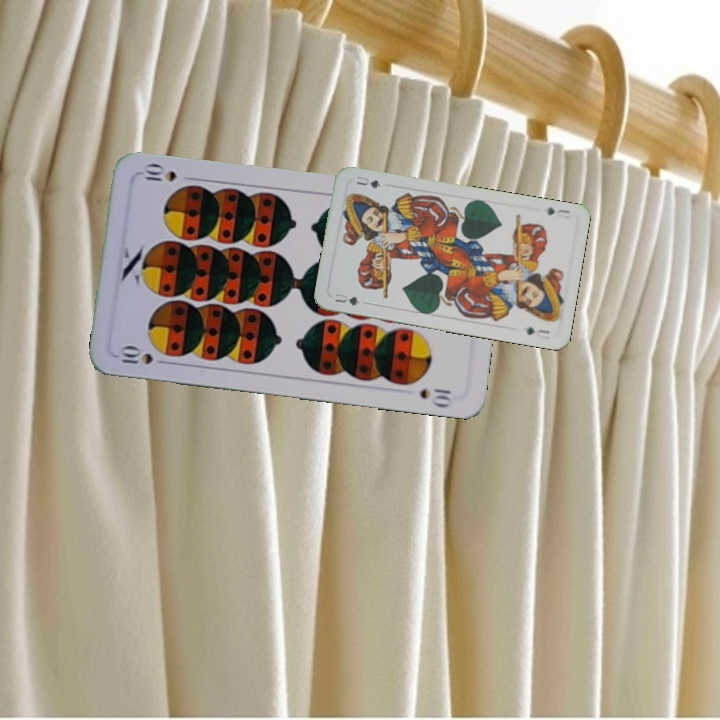GU: (331, 289, 362, 308), (543, 203, 573, 221)
S10: (113, 344, 172, 367)
